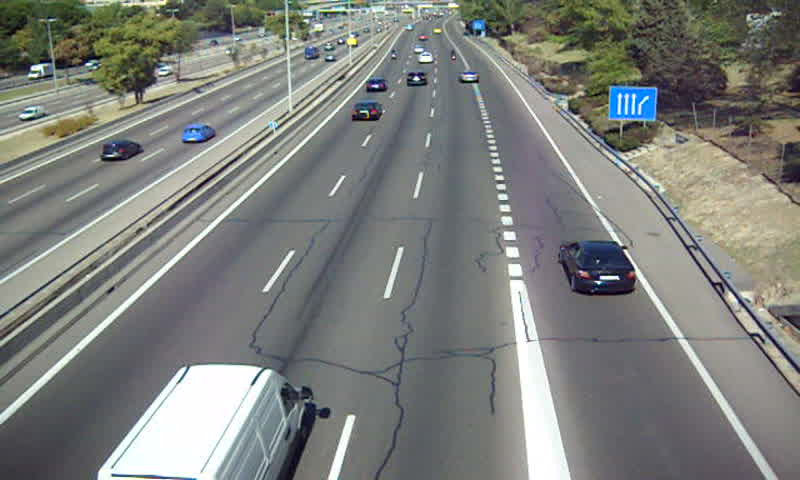car: (561, 242, 635, 294), (350, 102, 380, 122), (404, 70, 427, 88), (364, 77, 387, 93), (458, 69, 480, 84), (417, 51, 436, 63)
van: (98, 363, 312, 480)
